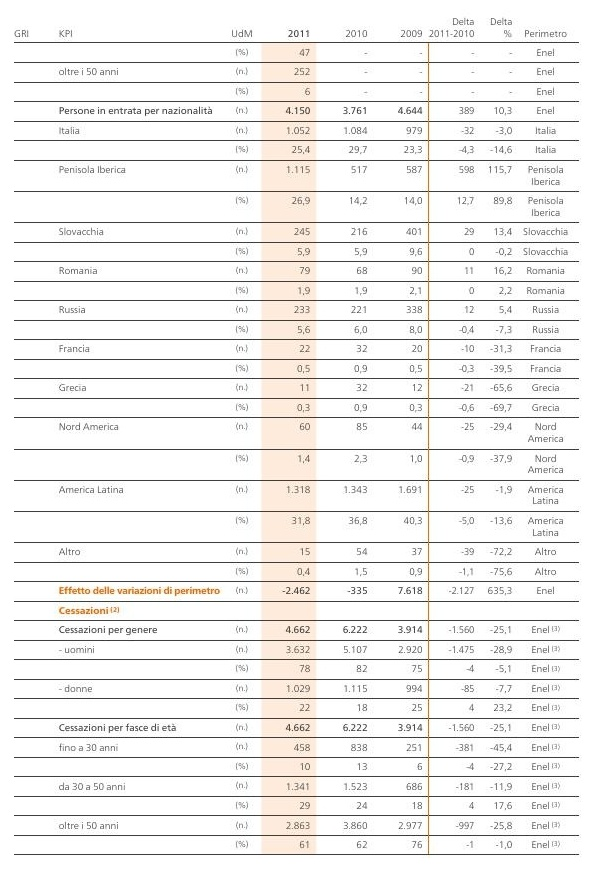table: (0, 0, 600, 871)
